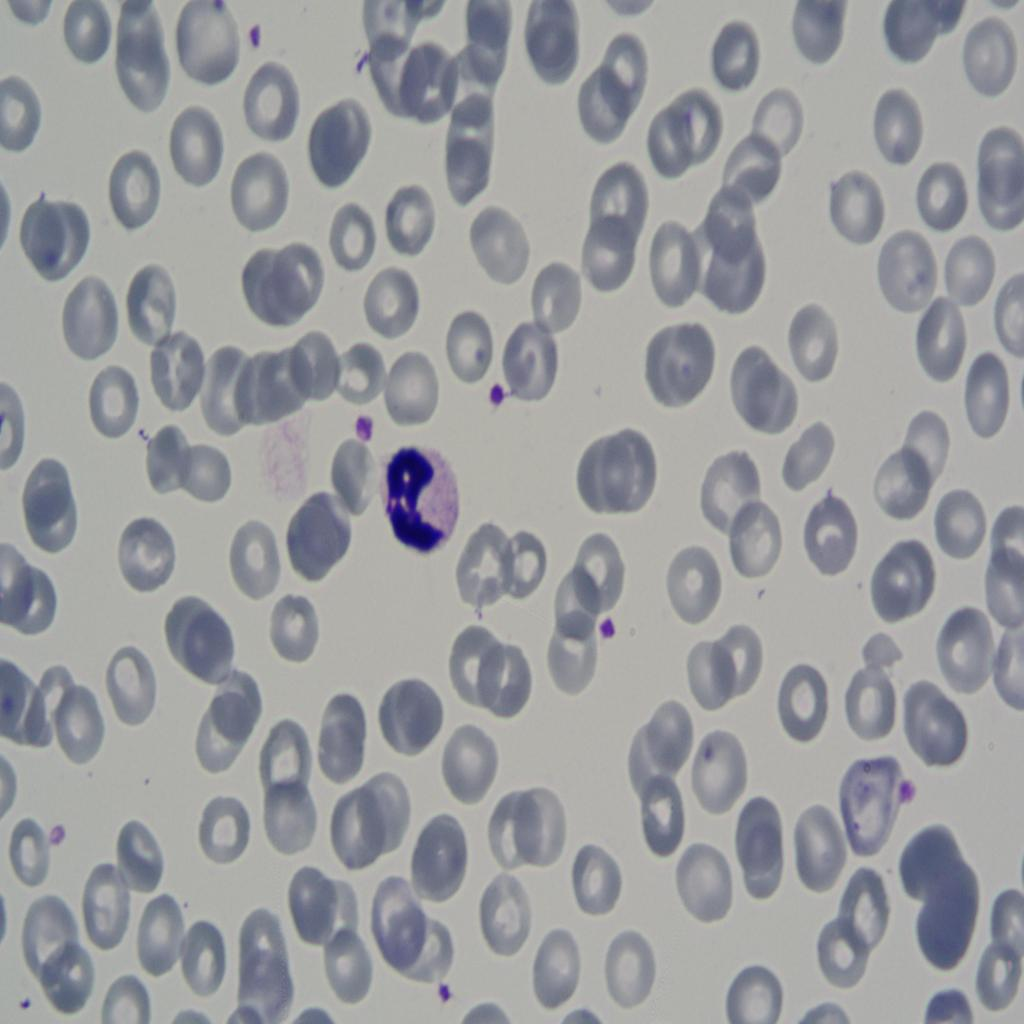Myeoblast: (378, 437, 464, 564)
Platelet: (484, 373, 522, 431), (887, 763, 929, 810), (235, 11, 274, 58), (351, 401, 375, 450), (432, 959, 456, 1008), (695, 738, 724, 770), (596, 621, 618, 652)
